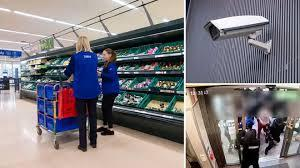Normal: (2, 0, 184, 167)
